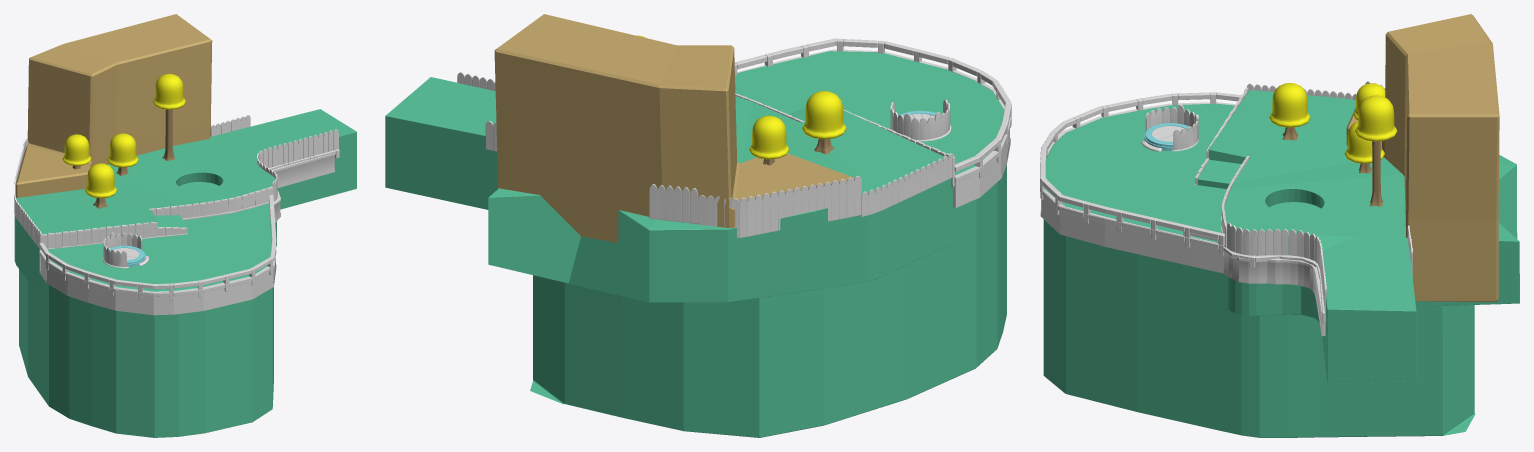
The model's file is Hele map 1.fbx.
The picture shows the model from 3 angles, left to right: view 1: azimuth 30°, elevation 25°; view 2: azimuth 150°, elevation 25°; view 3: azimuth 270°, elevation 25°; orthographic projection. The views are drawn at different scales.
Visible parts, largest first — view 1: lvl1, lVL3, lVL2.001, Fence Lower.003, Plank fence.060, Fence Lower.006, Bell.003, Bell, fence.001, Bell.001, fence.002, Bell.002 (+2 smaller); view 2: lvl1, lVL2.001, lVL3, Fence Lower.003, Bell, Bell.002; view 3: lvl1, lVL2.001, lVL3, Fence Lower.003, Plank fence.060, Fence Lower.006, Bell.003, Bell, dat stepje omhoog, fence_join, Bell.001, fence_join.001 (+4 smaller).
Boxes of the visible parts, x1,y1,x2,y2 form: lvl1: (19, 203, 273, 437); lVL3: (16, 14, 212, 197); lVL2.001: (14, 109, 356, 296); Fence Lower.003: (39, 246, 276, 315); Plank fence.060: (257, 129, 338, 200); Fence Lower.006: (272, 153, 334, 222); Bell.003: (152, 73, 185, 109); Bell: (85, 163, 116, 198); fence.001: (156, 186, 273, 218); Bell.001: (107, 133, 138, 167); fence.002: (40, 222, 150, 250); Bell.002: (62, 134, 91, 165); lvl1: (530, 51, 1006, 437); lVL2.001: (385, 77, 950, 302); lVL3: (494, 14, 854, 242); Fence Lower.003: (737, 49, 1010, 207); Bell: (802, 91, 846, 139); Bell.002: (749, 115, 789, 159); lvl1: (1043, 103, 1475, 437); lVL2.001: (1208, 90, 1519, 382); lVL3: (1346, 14, 1499, 301); Fence Lower.003: (1040, 102, 1235, 273); Plank fence.060: (1230, 225, 1326, 314); Fence Lower.006: (1223, 252, 1325, 336); Bell.003: (1355, 95, 1397, 141); Bell: (1269, 83, 1310, 127); dat stepje omhoog: (1197, 159, 1241, 188); fence_join: (1122, 211, 1224, 245); Bell.001: (1344, 121, 1384, 163); fence_join.001: (1122, 222, 1224, 255).
Size of the model in its own units: 34344 by 23715 by 31455.
